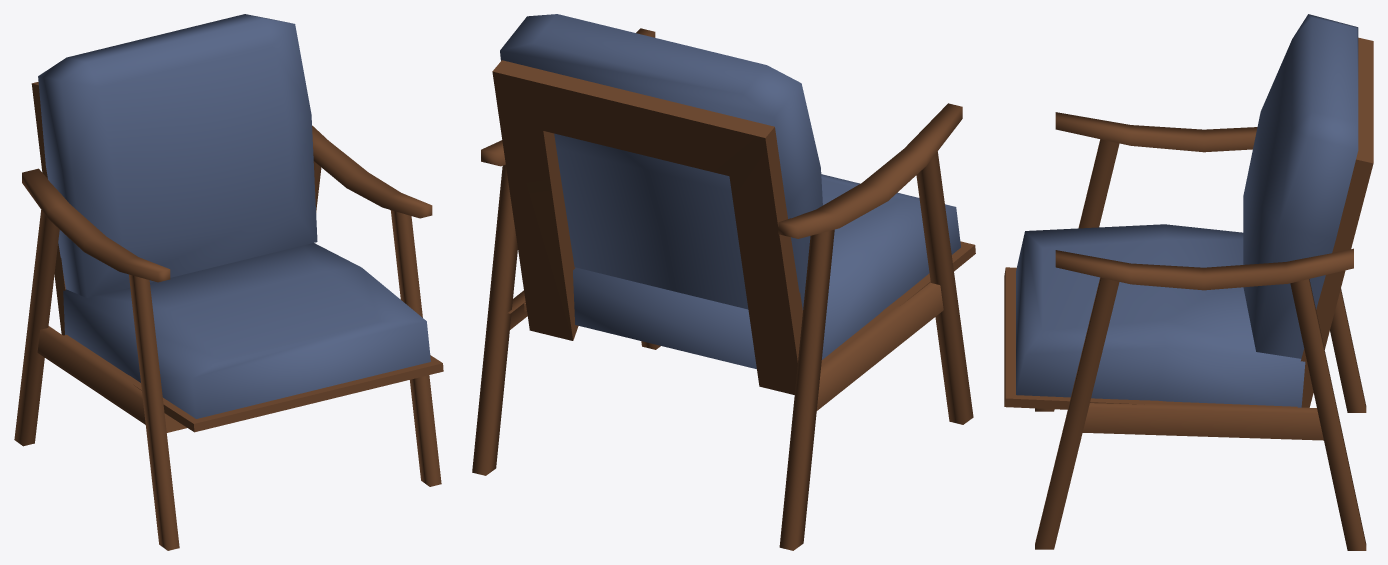
Rendered from chair3.fbx.
The picture shows the model from 3 angles, left to right: view 1: azimuth 30°, elevation 25°; view 2: azimuth 150°, elevation 25°; view 3: azimuth 270°, elevation 25°; orthographic projection. The views are drawn at different scales.
Parts seen in each view (by area): view 1: chair5; view 2: chair5; view 3: chair5.
Boxes of the visible parts, left/top/right/bottom form: chair5: left=14, top=14, right=443, bottom=550; chair5: left=472, top=14, right=975, bottom=550; chair5: left=1004, top=14, right=1373, bottom=550.
Bounding box in the file's own units: 1.54 × 1.99 × 1.61.
